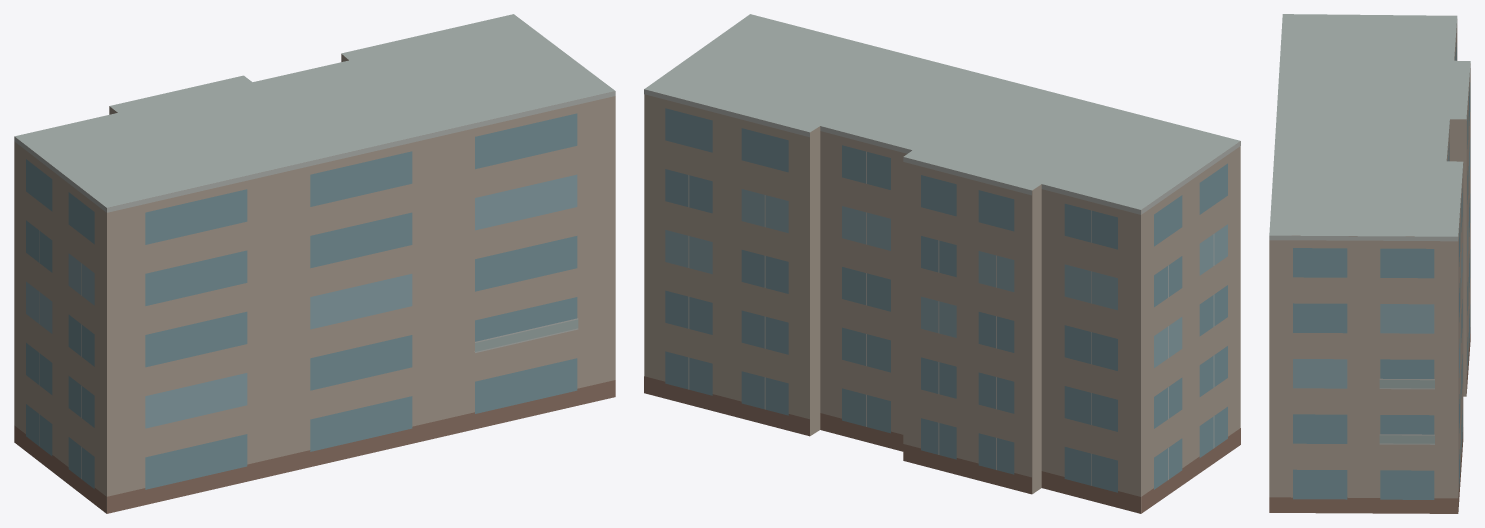
Rendered from survey-upis-32669750.glb.
The picture shows the model from 3 angles, left to right: view 1: azimuth 30°, elevation 25°; view 2: azimuth 150°, elevation 25°; view 3: azimuth 270°, elevation 25°; orthographic projection. The views are drawn at different scales.
Parts seen in each view (by area): view 1: survey-upis-32669750.tmp; view 2: survey-upis-32669750.tmp; view 3: survey-upis-32669750.tmp.
Part boxes in pixels (x1,y1,x2,y2): survey-upis-32669750.tmp: (14,14,615,513); survey-upis-32669750.tmp: (644,14,1240,513); survey-upis-32669750.tmp: (1269,14,1470,513).
Size of the model in its own units: 25.7 by 14.9 by 9.82.
